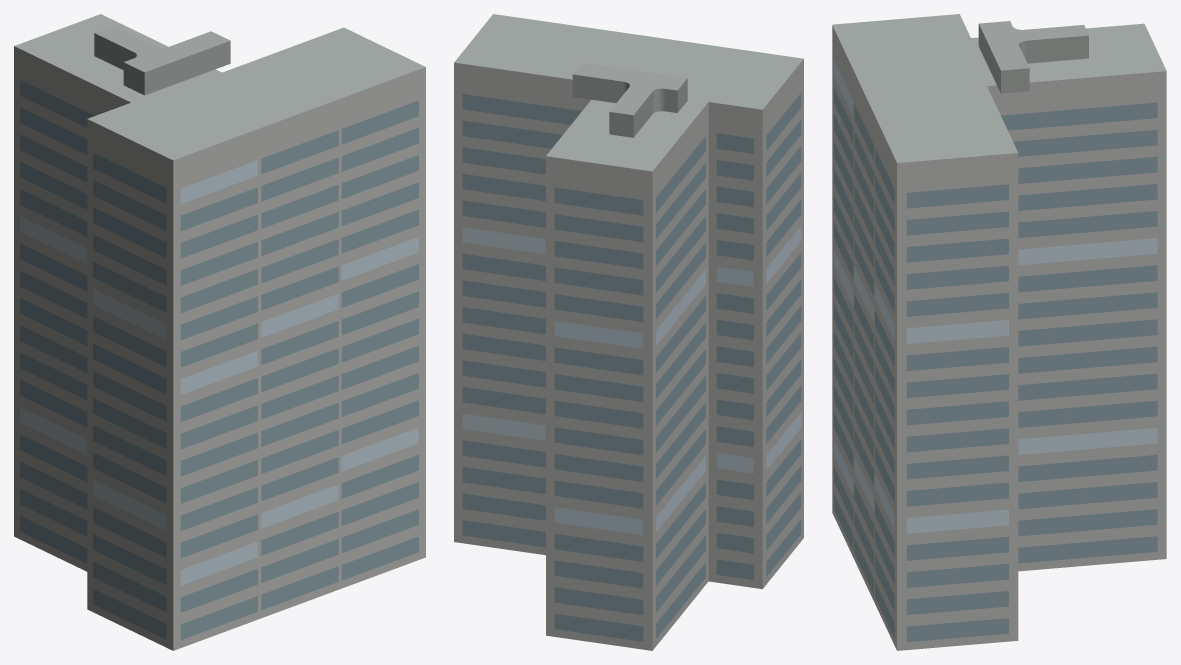
File: apt-a15603007.glb
3 views of the same model, side by side, from view 1: azimuth 30°, elevation 25°; view 2: azimuth 150°, elevation 25°; view 3: azimuth 270°, elevation 25° (orthographic). The views are drawn at different scales.
Visible parts, largest first — view 1: apt-a15603007; view 2: apt-a15603007; view 3: apt-a15603007.
Boxes of the visible parts, <box> form: apt-a15603007: <box>14,14,425,650</box>; apt-a15603007: <box>454,14,803,650</box>; apt-a15603007: <box>832,14,1166,650</box>.
Size of the model in its own units: 30.67 by 49 by 29.09.
